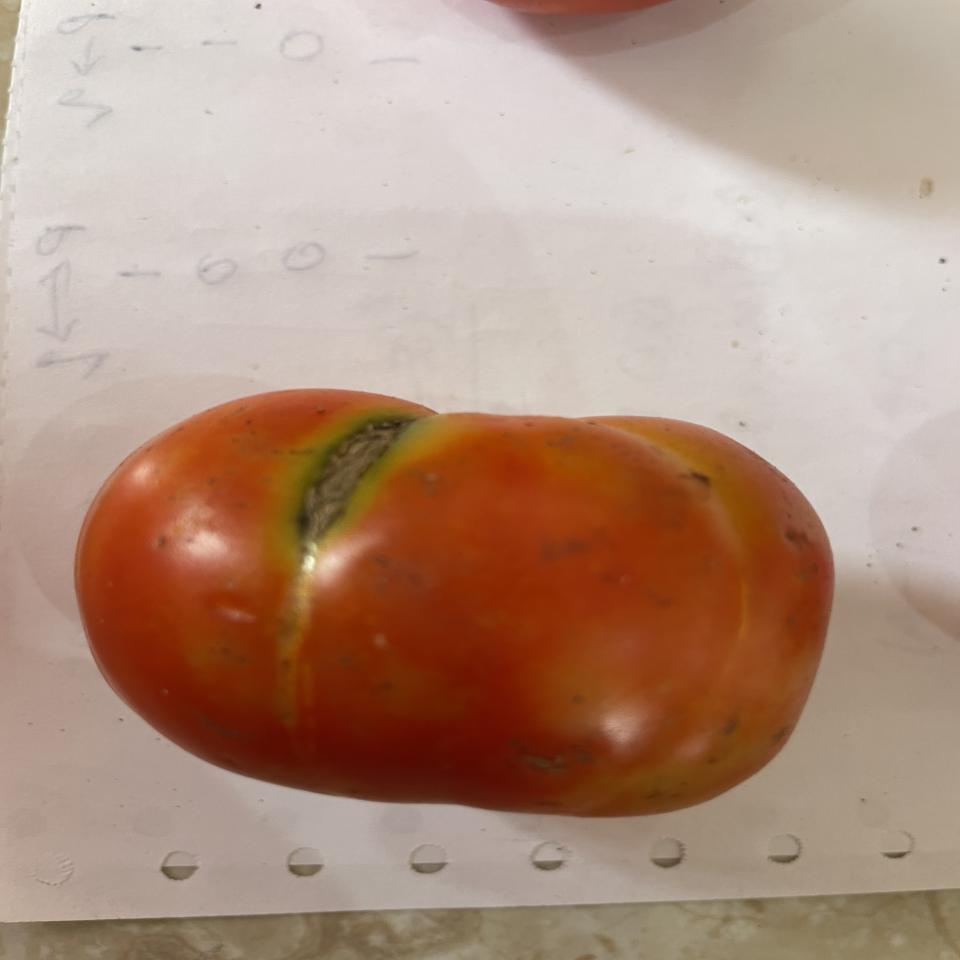Cracking: (271, 399, 425, 578)
